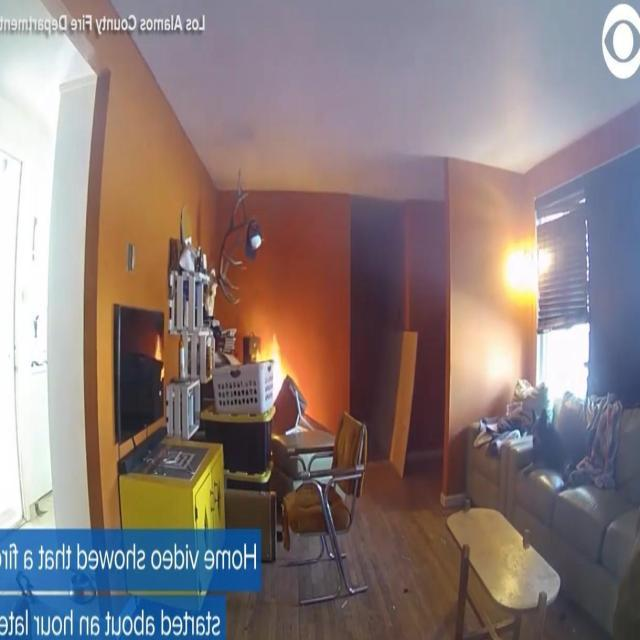smoke: (262, 326, 293, 408)
